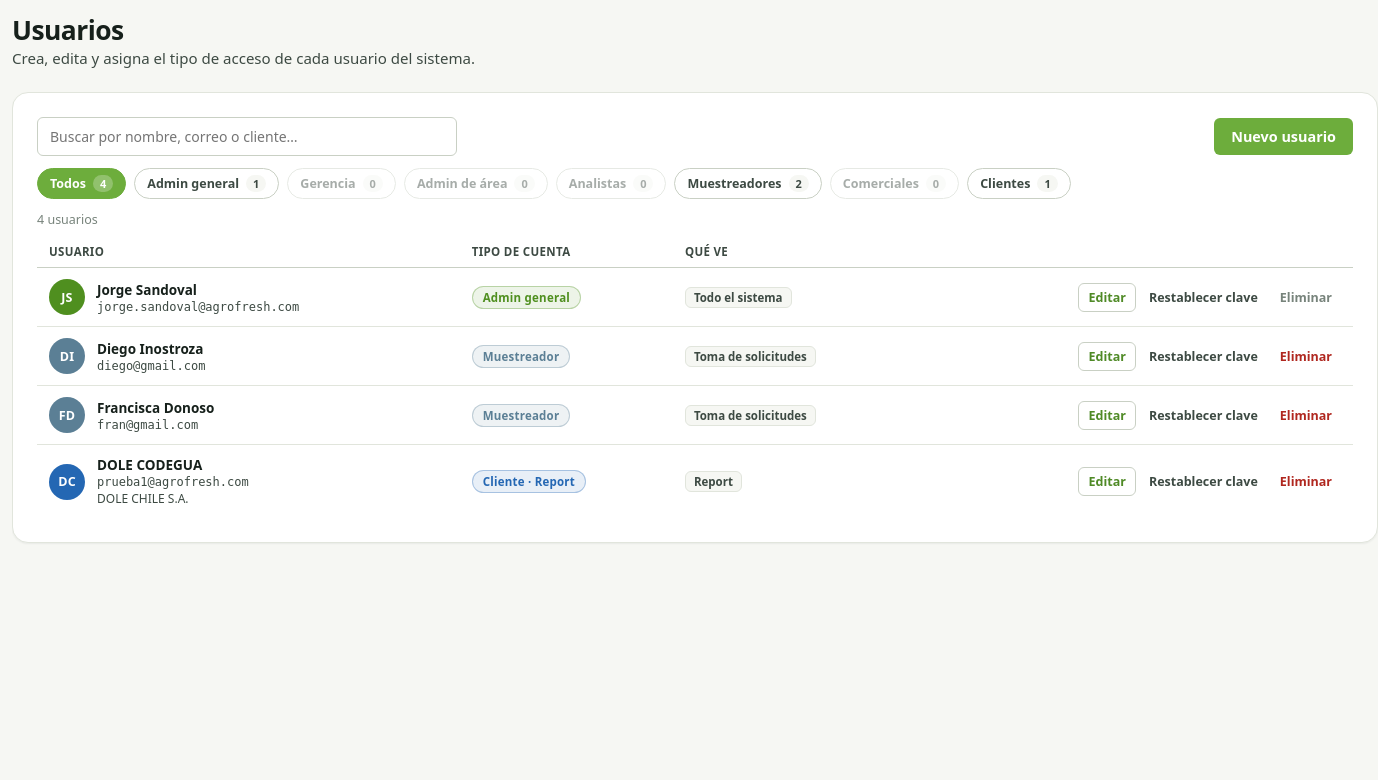
Test case: UsuariosView: filtros › filtrar por Muestreadores y por Clientes deja solo esas cuentas
Click the button "Muestreadores 2" at x=748, y=184, box [674,168,822,199]
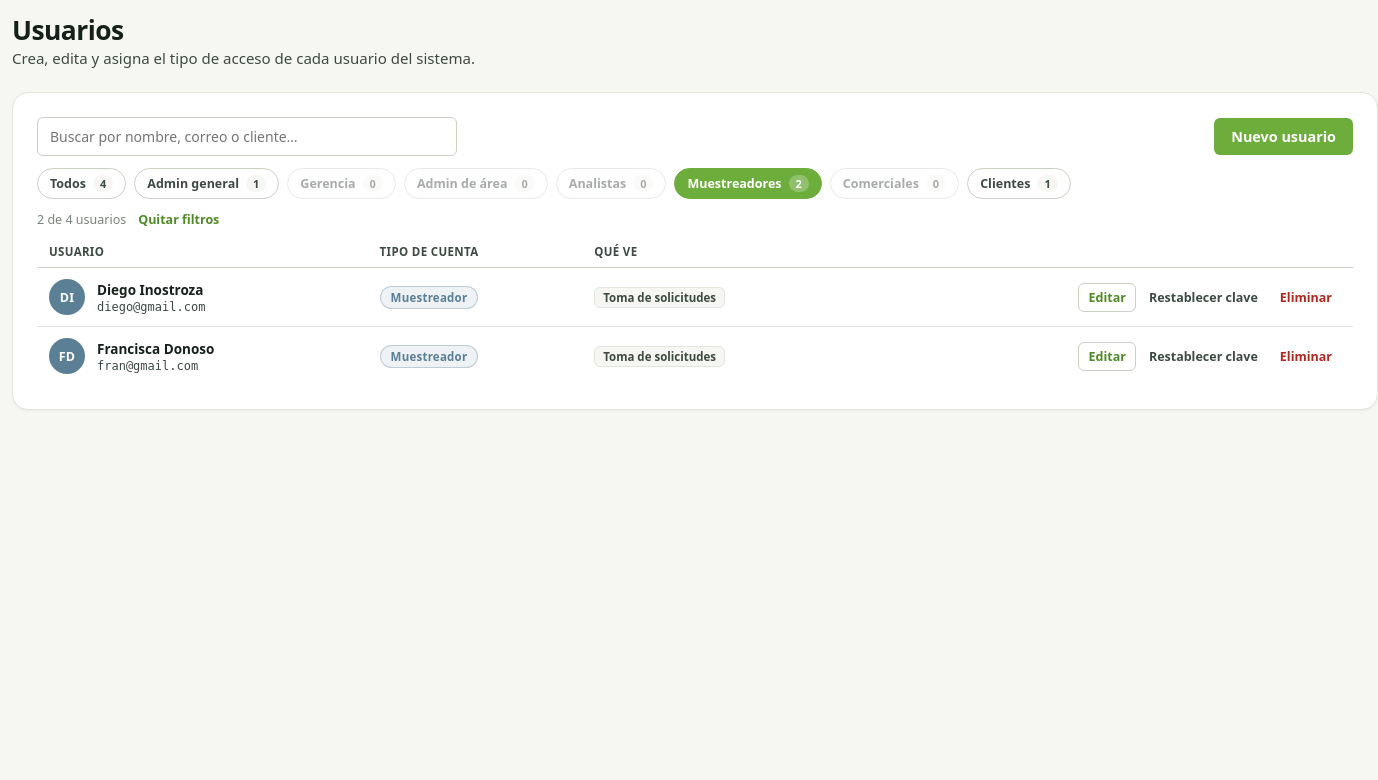
Now the text "2 de 4 usuarios" is shown, box [37,211,126,228]
Click the button "Clientes 1" at x=1019, y=184, box [967,168,1071,199]
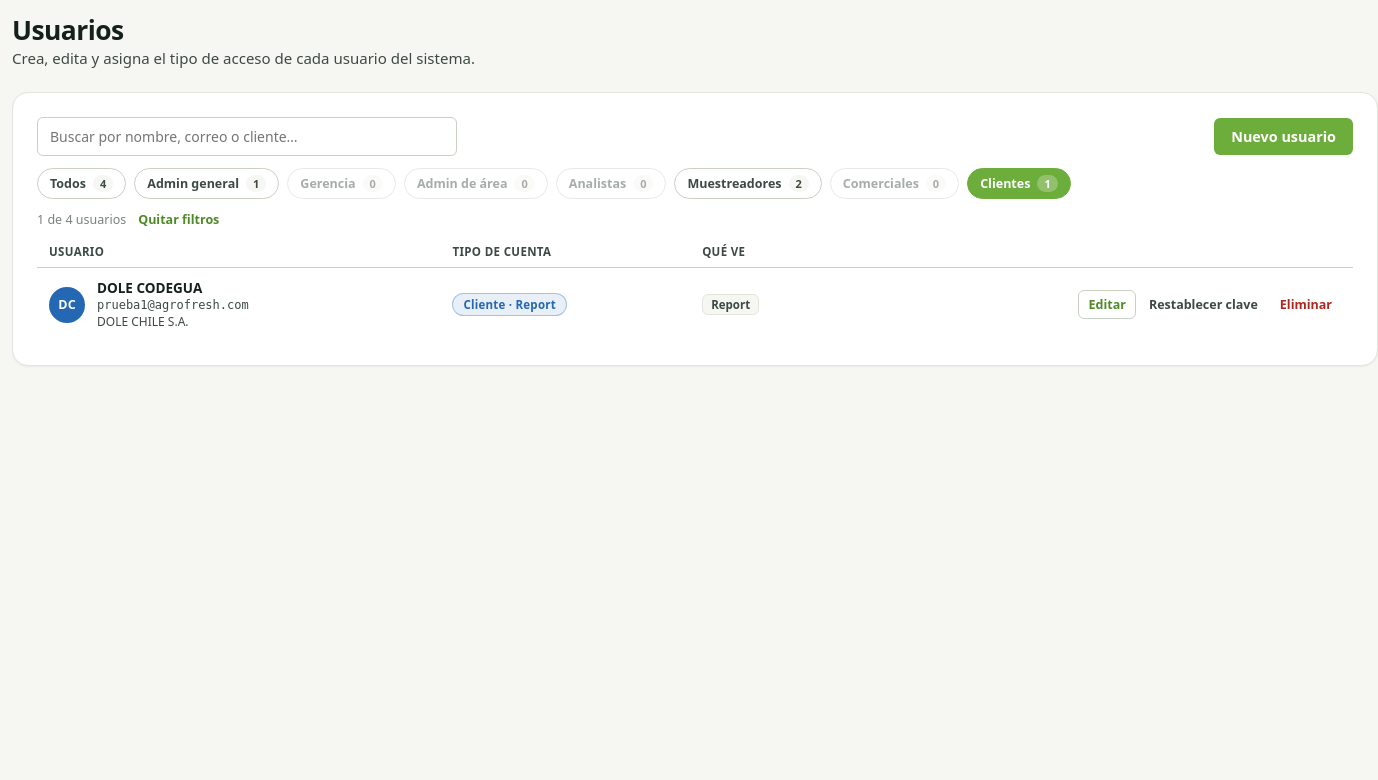
Now the text "DOLE CODEGUA" is shown, box [97,279,202,297]
